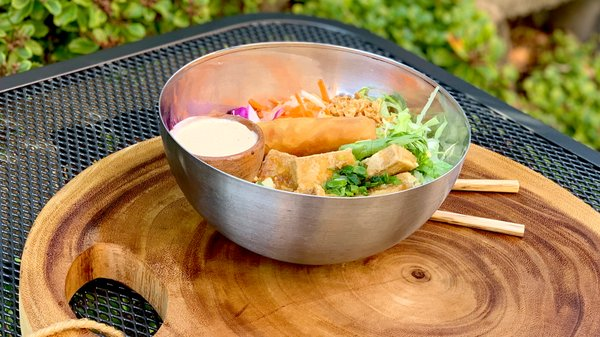sushi: (158, 41, 469, 268)
